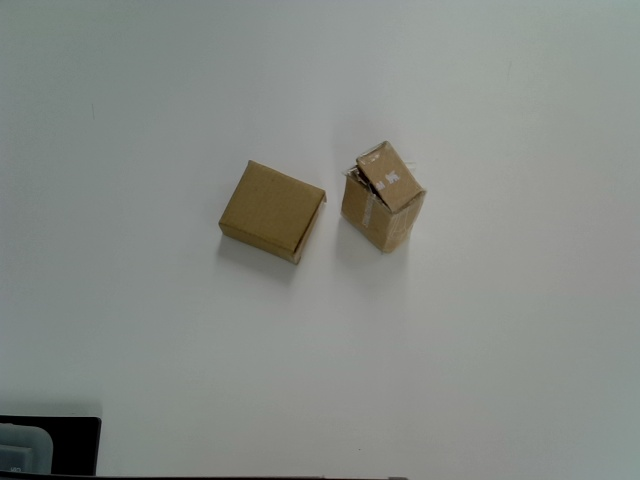defect: (339, 140, 428, 255)
normal: (219, 160, 326, 265)
